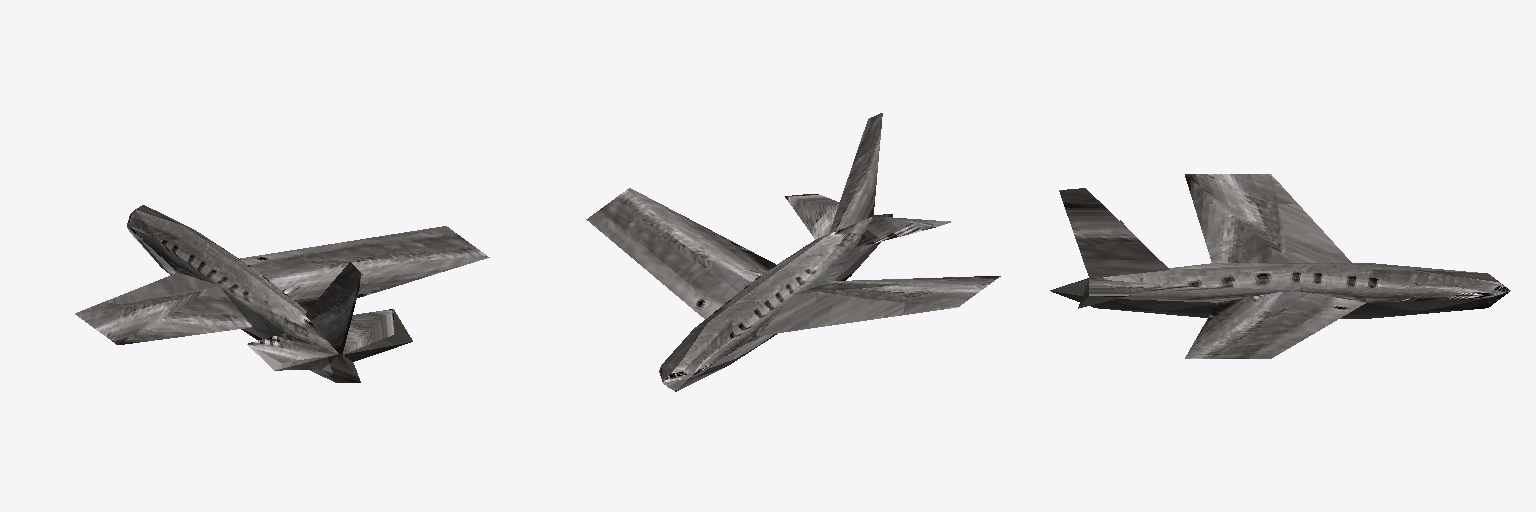
The picture shows the model from 3 angles: view 1: azimuth 30°, elevation 25°; view 2: azimuth 150°, elevation 25°; view 3: azimuth 270°, elevation 25°; orthographic projection.
Parts seen in each view (by area): view 1: Icosphere; view 2: Icosphere; view 3: Icosphere.
Boxes of the visible parts, x1,y1,x2,y2 form: Icosphere: [75, 205, 489, 382]; Icosphere: [586, 113, 1000, 391]; Icosphere: [1050, 174, 1510, 358].
Size of the model in its own units: 109 by 37.47 by 118.
1 materials, 1 textured.